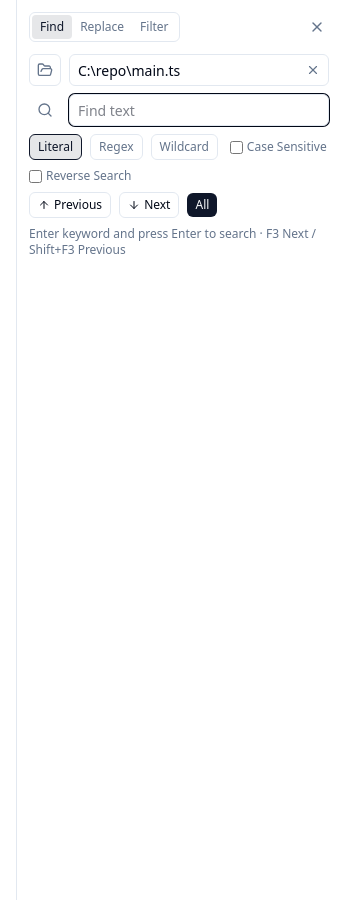
Test: SearchReplacePanel › switches panel mode via find/replace/filter buttons
This screenshot has width=347, height=900.
Expected: the field labelled "Find text" is shown, x1=69 y1=94 x2=329 y2=126
Click the button "Replace".
click(102, 27)  # box x1=72 y1=15 x2=132 y2=39
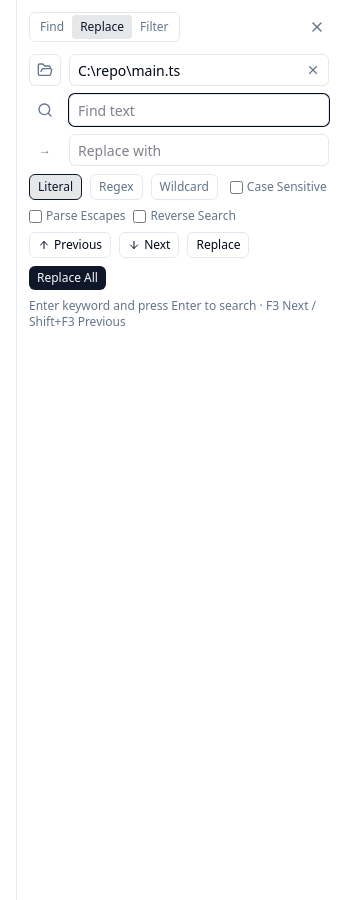
Expected: the field labelled "Replace with" is shown, x1=69 y1=134 x2=329 y2=166
Click the button "Filter".
click(154, 27)  # box x1=132 y1=15 x2=177 y2=39
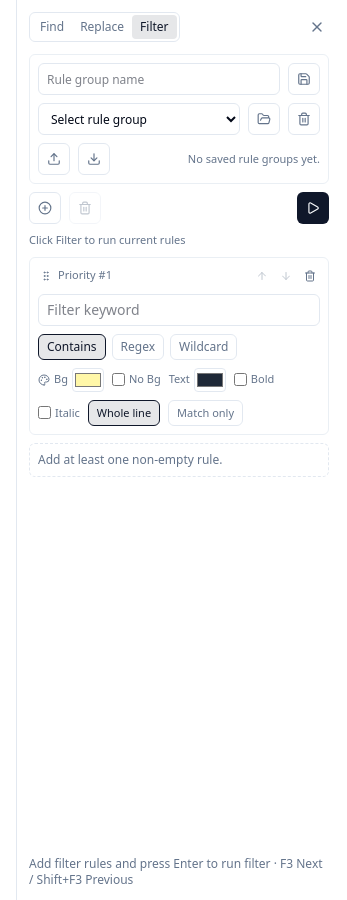
Expected: the button named "Add Rule" is shown, x1=29 y1=192 x2=61 y2=224
Expected: the field labelled "Rule group name" is shown, x1=38 y1=63 x2=280 y2=95
Expected: the dropdown named "Select rule group" is shown, x1=38 y1=103 x2=240 y2=135
Click the button "Find".
click(52, 27)  # box x1=32 y1=15 x2=72 y2=39
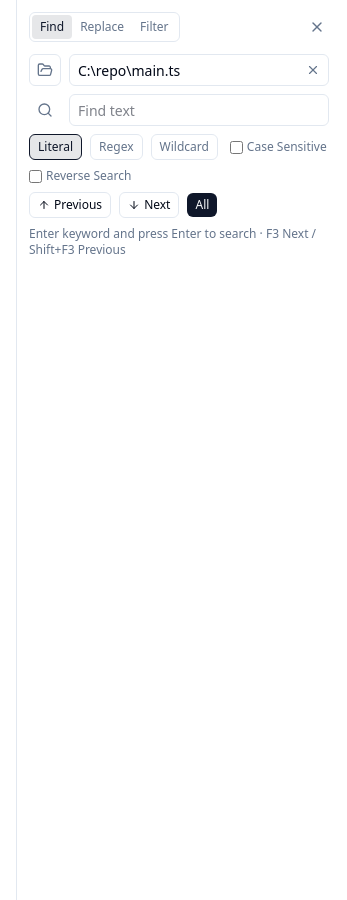
Expected: the field with placeholder "Find text" is shown, x1=69 y1=94 x2=329 y2=126
